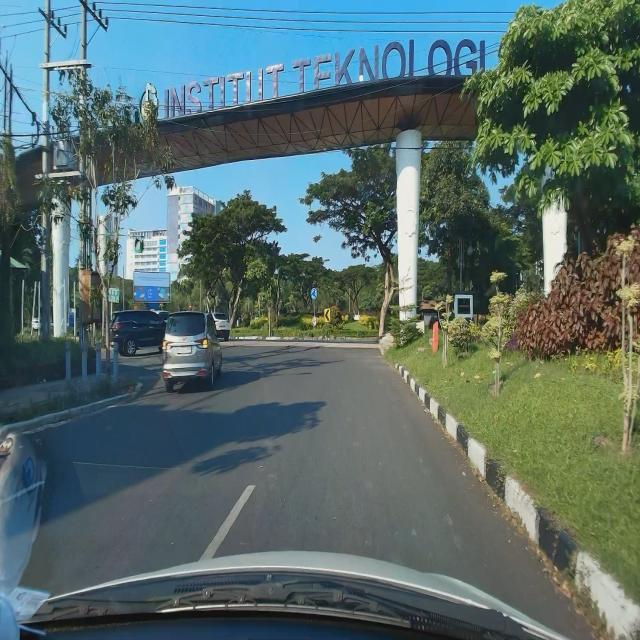car: (162, 310, 222, 393)
license-plate: (176, 346, 192, 354)
